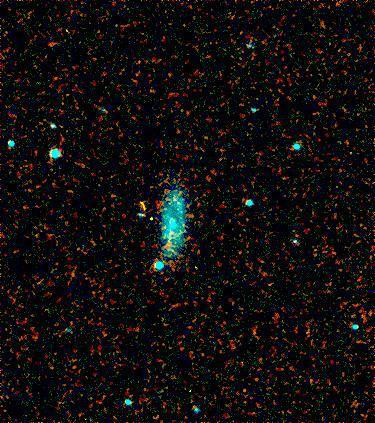star: (138, 207, 168, 237)
